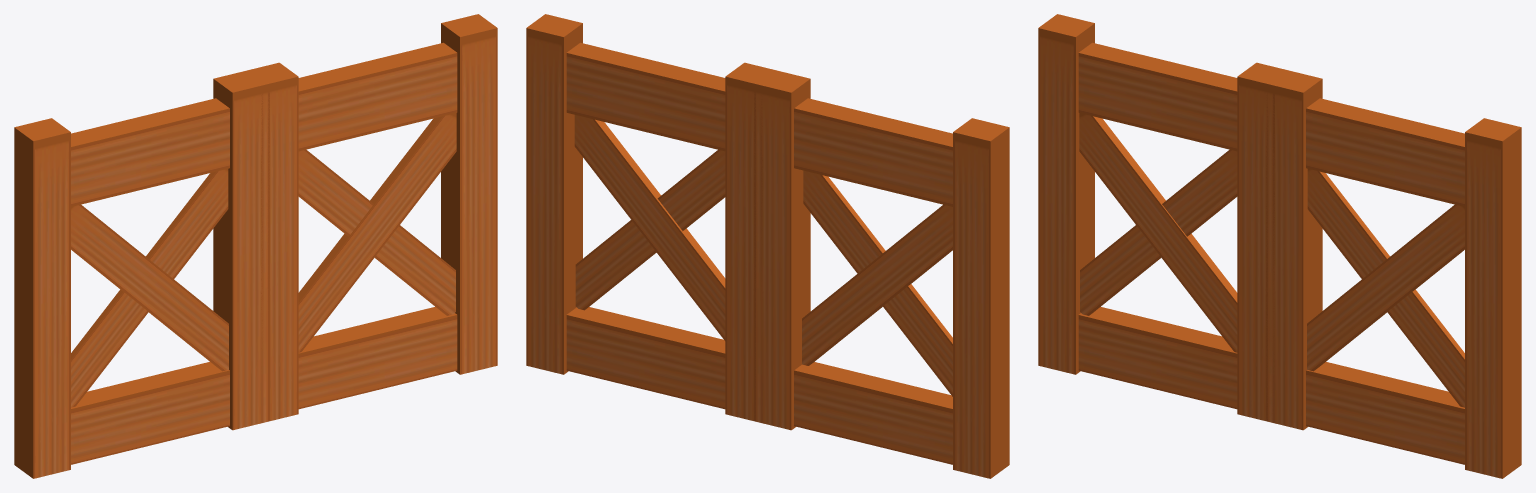
File: GumWoodGateHand.fbx
3 views of the same model, side by side, from view 1: azimuth 30°, elevation 25°; view 2: azimuth 150°, elevation 25°; view 3: azimuth 330°, elevation 25° (orthographic).
Visible parts, largest first — view 1: FencePost, FencePost (1); view 2: FencePost, FencePost (1); view 3: FencePost (1), FencePost.
Part boxes in pixels (bbox=[...]): FencePost: bbox=[14, 69, 269, 478]; FencePost (1): bbox=[247, 14, 497, 420]; FencePost: bbox=[754, 69, 1009, 478]; FencePost (1): bbox=[526, 14, 776, 420]; FencePost (1): bbox=[1266, 69, 1521, 478]; FencePost: bbox=[1038, 14, 1293, 421].
Bounding box in the file's own units: 1.24 × 0.8605 × 0.0886.
Materials: 1 (1 with a texture image).
